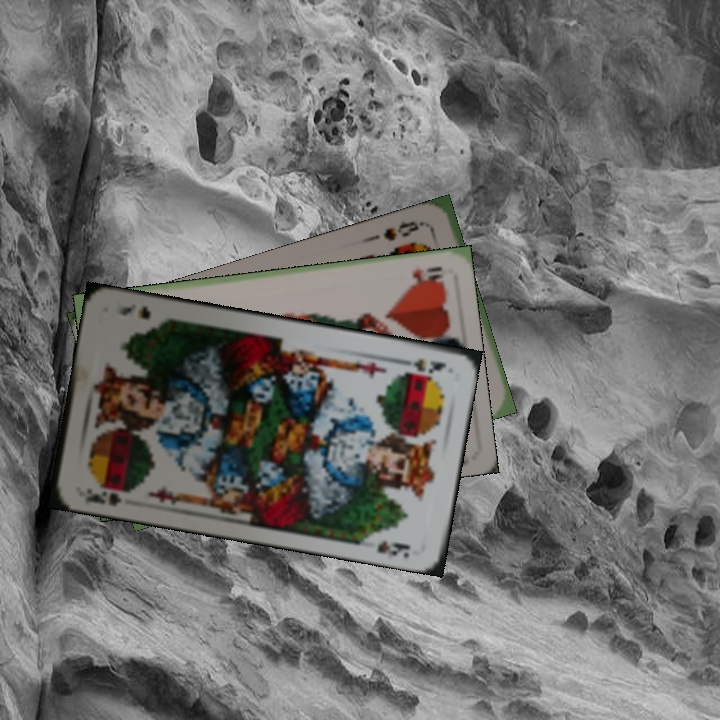HO: (404, 262, 447, 287)
S8: (379, 217, 433, 244)
SK: (393, 354, 449, 376), (81, 484, 124, 509)
